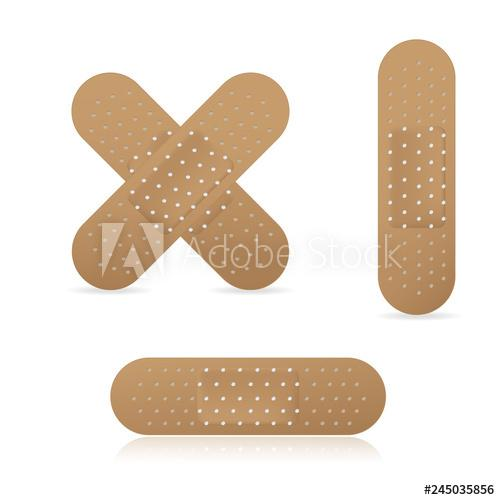bandage: (64, 55, 303, 296), (361, 31, 475, 323), (108, 352, 391, 441)
